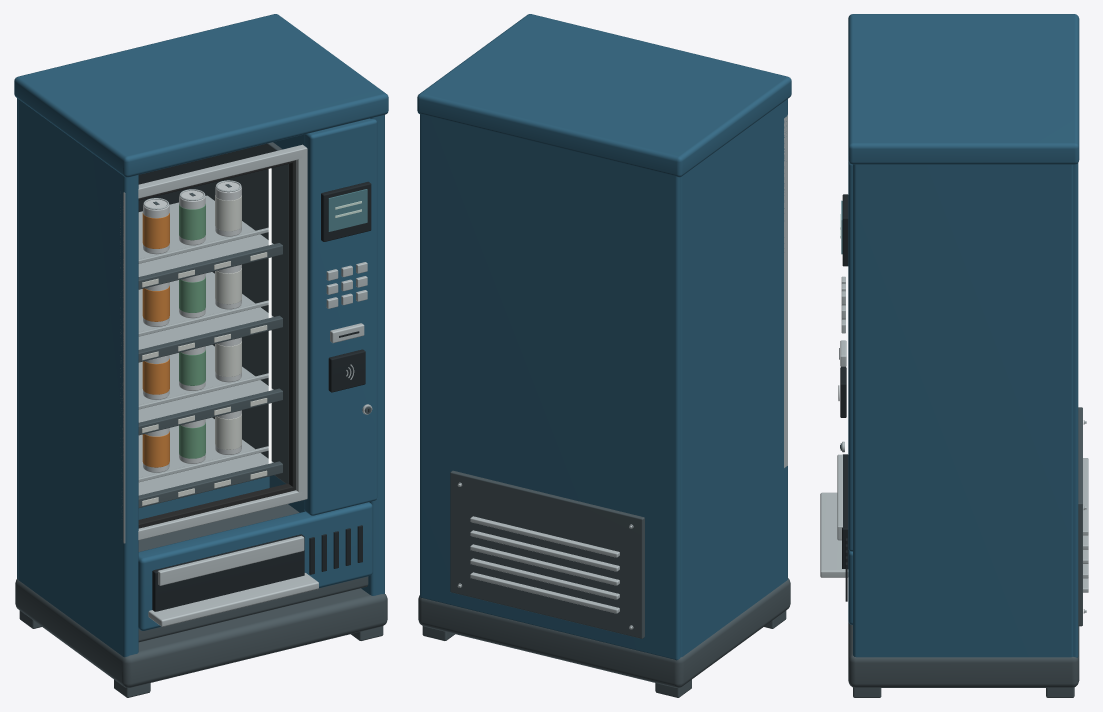
File: city-vending-machine.glb
3 renders of one model, left to right at view 1: azimuth 30°, elevation 25°; view 2: azimuth 150°, elevation 25°; view 3: azimuth 270°, elevation 25°, orthographic. The views are drawn at different scales.
Parts seen in each view (by area): view 1: Cabinet side panels - enamel-blue, Top insulated cabinet, Payment fascia, Display shelving - steel, Recessed base plinth, Display interior returns - graphite, Display door frame - steel, Lower delivery surround, Shelf information rails - graphite, Display door seal - rubber, Base internal shelf, Collection pocket (+16 smaller); view 2: Rear insulated cabinet, Cabinet side panels - enamel-blue, Top insulated cabinet, Rear compressor panel, Recessed base plinth, Rear cooling louvers - steel, Display door frame - steel, Vending base feet - graphite; view 3: Cabinet side panels - enamel-blue, Top insulated cabinet, Recessed base plinth, Rear insulated cabinet, Payment fascia, Collection tray, Rear compressor panel, Rear cooling louvers - steel, Collection pocket, Vending base feet - graphite, Payment screen surround, Delivery flap.
Part boxes in pixels (<box>): Cabinet side panels - enamel-blue: <box>18,99,384,657</box>; Top insulated cabinet: <box>14,14,388,177</box>; Payment fascia: <box>304,118,377,515</box>; Display shelving - steel: <box>138,195,273,495</box>; Recessed base plinth: <box>15,579,387,687</box>; Display interior returns - graphite: <box>206,142,288,483</box>; Display door frame - steel: <box>120,144,307,543</box>; Lower delivery surround: <box>138,502,372,630</box>; Shelf information rails - graphite: <box>138,243,282,507</box>; Display door seal - rubber: <box>138,160,295,528</box>; Base internal shelf: <box>138,504,368,642</box>; Collection pocket: <box>152,534,304,611</box>; Rear insulated cabinet: <box>420,114,680,660</box>; Cabinet side panels - enamel-blue: <box>681,99,787,657</box>; Top insulated cabinet: <box>417,14,791,177</box>; Rear compressor panel: <box>450,470,644,638</box>; Recessed base plinth: <box>418,578,790,687</box>; Rear cooling louvers - steel: <box>470,516,619,613</box>; Display door frame - steel: <box>784,115,787,467</box>; Vending base feet - graphite: <box>422,611,786,697</box>; Cabinet side panels - enamel-blue: <box>853,164,1072,657</box>; Top insulated cabinet: <box>848,14,1079,164</box>; Recessed base plinth: <box>848,622,1079,687</box>; Rear insulated cabinet: <box>1073,163,1078,657</box>; Payment fascia: <box>848,161,852,551</box>; Collection tray: <box>820,492,848,577</box>; Rear compressor panel: <box>1078,407,1082,626</box>; Rear cooling louvers - steel: <box>1083,458,1088,592</box>; Collection pocket: <box>842,454,848,568</box>; Vending base feet - graphite: <box>853,687,1074,697</box>; Payment screen surround: <box>842,194,848,266</box>; Delivery flap: <box>837,454,842,540</box>.
Size of the model in its own units: 0.99 by 1.94 by 0.8475.
